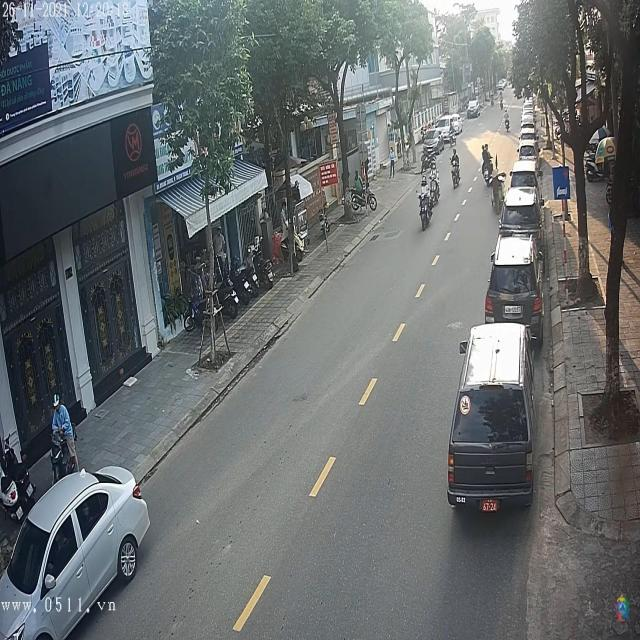car: (449, 324, 535, 510), (484, 233, 544, 329), (468, 99, 481, 117)
motorcycle: (419, 195, 432, 232), (451, 160, 461, 191)
